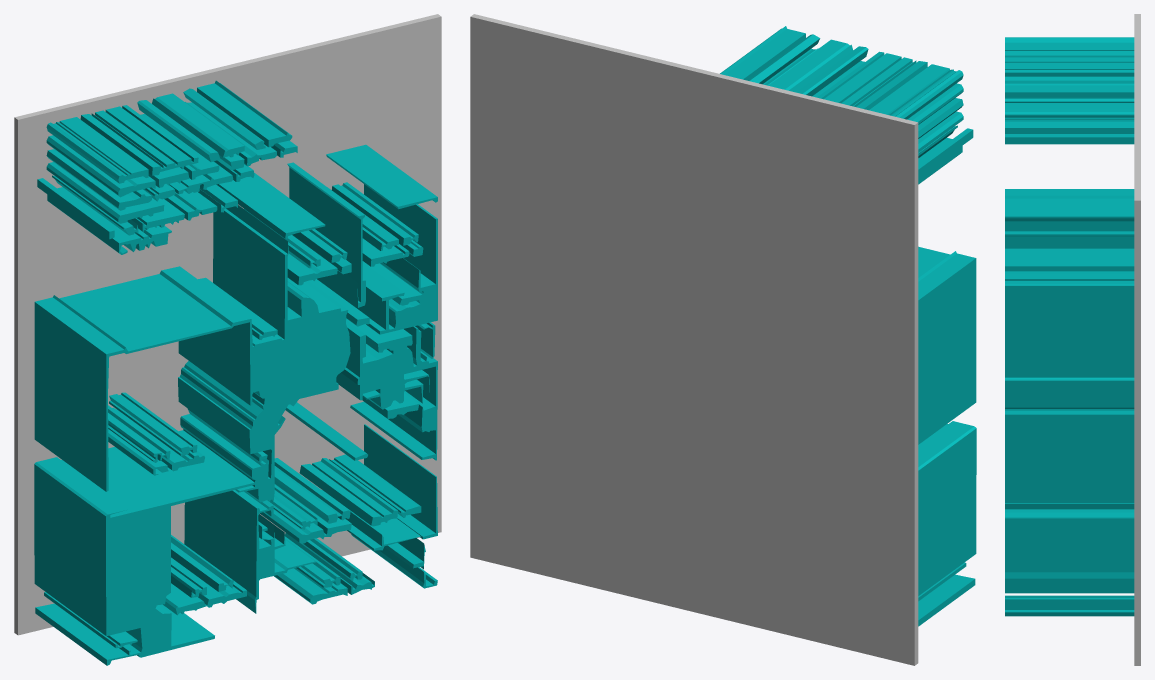
The picture shows the model from 3 angles, left to right: view 1: azimuth 30°, elevation 25°; view 2: azimuth 150°, elevation 25°; view 3: azimuth 270°, elevation 25°; orthographic projection. The views are drawn at different scales.
Visible parts, largest first — view 1: world; view 2: world; view 3: world.
Boxes of the visible parts, <box> form: world: <box>14,14,441,665</box>; world: <box>470,14,976,665</box>; world: <box>1005,14,1140,665</box>.
Bounding box in the file's own units: 10.23 × 11.9 × 3.15.
